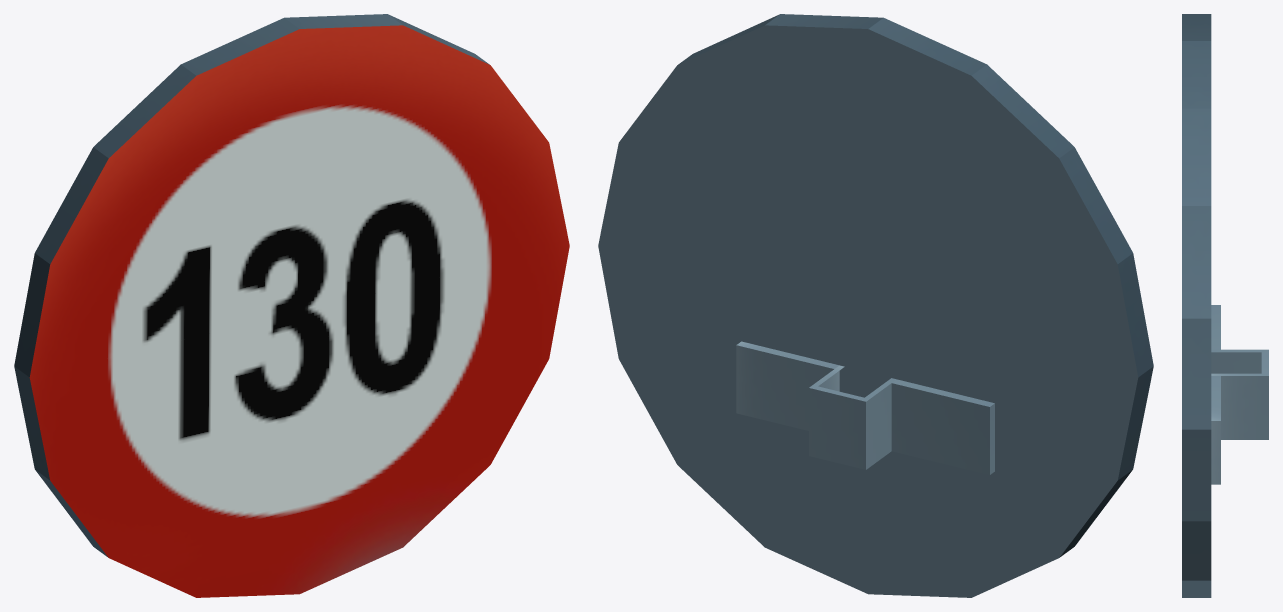
File: Sign34Austrian.fbx
The picture shows the model from 3 angles, left to right: view 1: azimuth 30°, elevation 25°; view 2: azimuth 150°, elevation 25°; view 3: azimuth 270°, elevation 25°; orthographic projection. The views are drawn at different scales.
Visible parts, largest first — view 1: Sign34Austrian; view 2: Sign34Austrian; view 3: Sign34Austrian.
Boxes of the visible parts, x1,y1,x2,y2 form: Sign34Austrian: [14, 14, 569, 597]; Sign34Austrian: [598, 14, 1153, 597]; Sign34Austrian: [1182, 14, 1268, 597].
Bounding box in the file's own units: 1 × 1 × 0.1489.
